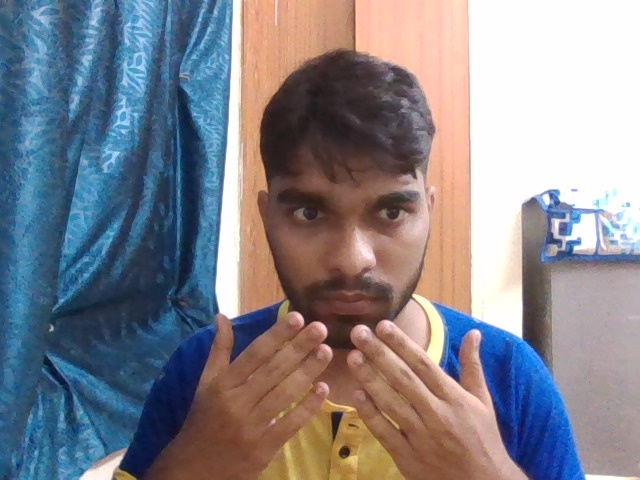Thank You: (178, 280, 507, 478)
